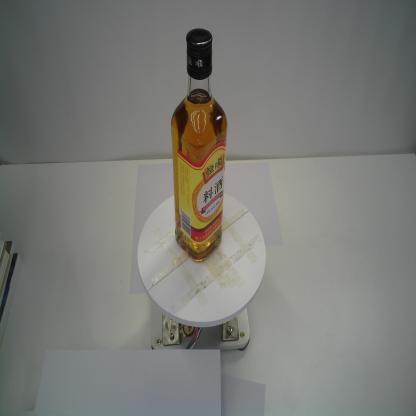Seasoner: (170, 26, 228, 262)
